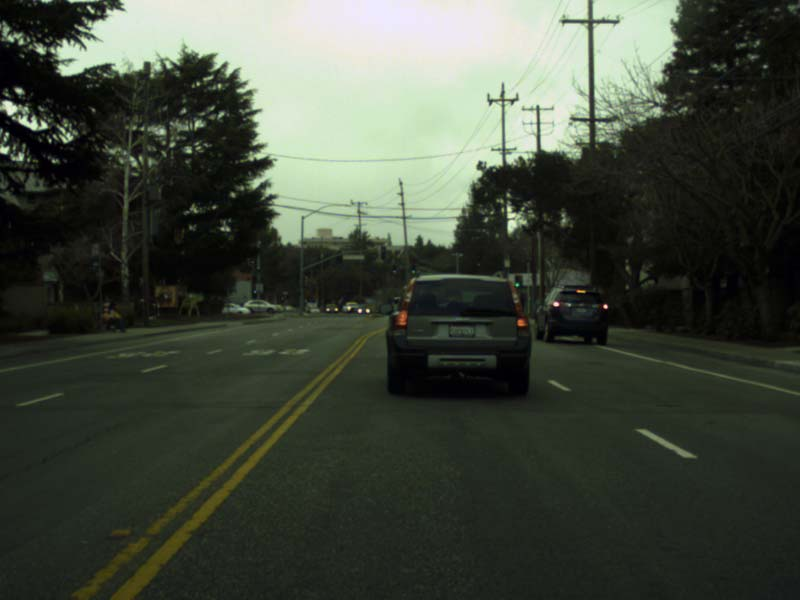Green: (514, 275, 519, 287), (253, 285, 257, 294), (411, 265, 414, 273), (393, 265, 395, 273)
